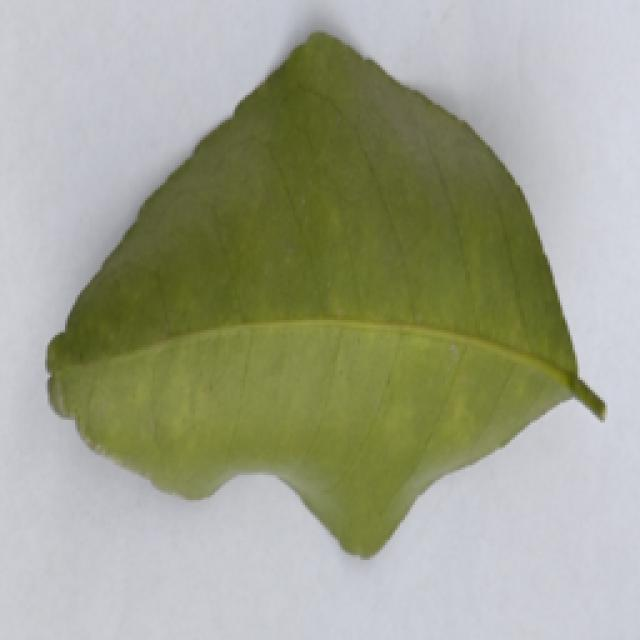healthy: (48, 34, 610, 550)
